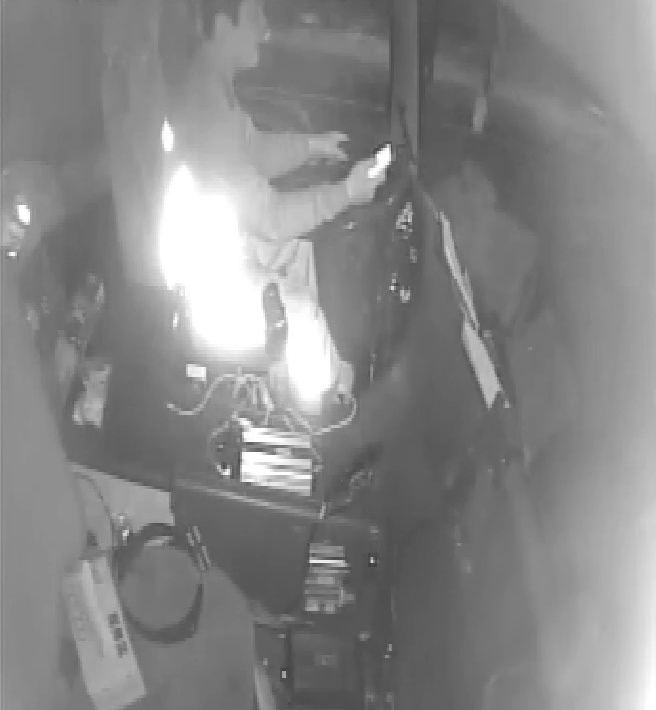cellphone: (358, 143, 396, 183)
